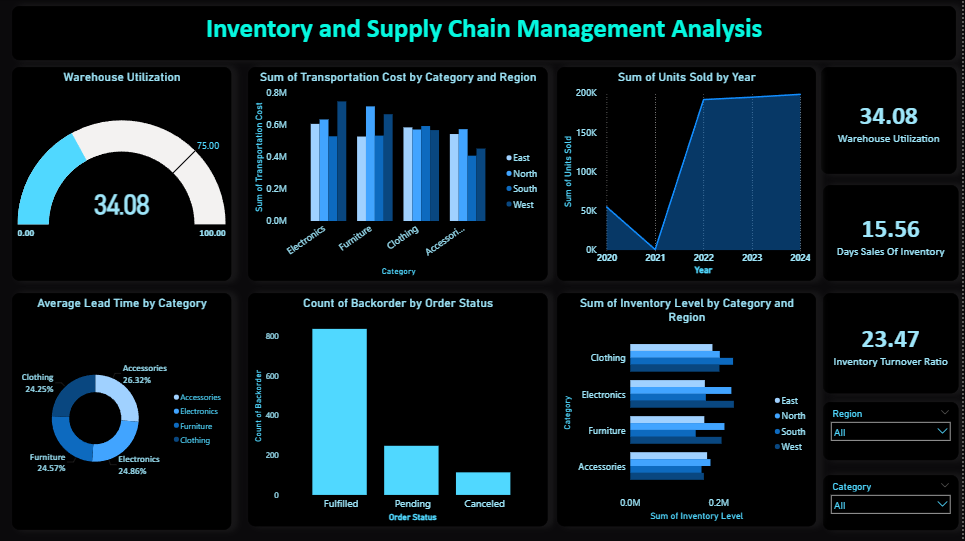

Layout of this report page (visuals, bound fields, positions):
{"tool":"powerbi","page":{"name":"Page 1","canvas":[1920,1080],"ordinal":0},"visuals":[{"type":"textbox","box":[28.5,13.2,1881.2,107.6],"z":0},{"type":"card","fields":{"Values":["Inventory and Supply Chain Management Analysis.Days Sales Of Inventory"]},"box":[1644.1,371,270,191],"z":1000},{"type":"card","fields":{"Values":["Inventory and Supply Chain Management Analysis.Warehouse Utilization"]},"box":[1639.8,136.1,270,212.9],"z":2000},{"type":"card","fields":{"Values":["Inventory and Supply Chain Management Analysis.Inventory Turnover Ratio"]},"box":[1644.1,586.1,270,199.8],"z":3000},{"type":"gauge","fields":{"Y":["Inventory and Supply Chain Management Analysis.Warehouse Utilization"]},"box":[28.5,136.1,436.8,425.9],"z":4000},{"type":"clusteredColumnChart","fields":{"Category":["Inventory and Supply Chain Management Analysis.Category"],"Y":["Sum(Inventory and Supply Chain Management Analysis.Transportation Cost)"],"Series":["Inventory and Supply Chain Management Analysis.Region"]},"box":[498.3,136.1,597.1,425.9],"z":5000},{"type":"slicer","fields":{"Values":["Inventory and Supply Chain Management Analysis.Region"]},"box":[1644.1,803.4,270,116.3],"z":6000},{"type":"slicer","fields":{"Values":["Inventory and Supply Chain Management Analysis.Category"]},"box":[1644.1,948.3,270,109.8],"z":7000},{"type":"areaChart","fields":{"Y":["Sum(Inventory and Supply Chain Management Analysis.Units Sold)"],"Category":["Inventory and Supply Chain Management Analysis.Date.Variation.Date Hierarchy.Year"]},"box":[1112.9,136.1,515.9,425.9],"z":8000},{"type":"donutChart","title":"Average  Lead Time  by Category","fields":{"Category":["Inventory and Supply Chain Management Analysis.Category"],"Y":["Avg(Inventory and Supply Chain Management Analysis.Lead Time (Days))"]},"box":[28.5,586.1,436.8,472],"z":9000},{"type":"columnChart","fields":{"Y":["CountNonNull(Inventory and Supply Chain Management Analysis.Backorder)"],"Category":["Inventory and Supply Chain Management Analysis.Order Status"]},"box":[498.3,586.1,597.1,465.4],"z":10000},{"type":"clusteredBarChart","fields":{"Category":["Inventory and Supply Chain Management Analysis.Category"],"Y":["Sum(Inventory and Supply Chain Management Analysis.Inventory Level)"],"Series":["Inventory and Supply Chain Management Analysis.Region"]},"box":[1112.9,586.1,515.9,465.4],"z":11000}]}

Visuals, with their boxes in screenshot pixels (x1, y1, x2, y2), scaled from the page's 1920x1080 canvas onto the 965x541 screenshot:
textbox: crop(14, 7, 960, 61)
card - Inventory and Supply Chain Management Analysis.Days Sales Of Inventory: crop(826, 186, 962, 282)
card - Inventory and Supply Chain Management Analysis.Warehouse Utilization: crop(824, 68, 960, 175)
card - Inventory and Supply Chain Management Analysis.Inventory Turnover Ratio: crop(826, 294, 962, 394)
gauge - Inventory and Supply Chain Management Analysis.Warehouse Utilization: crop(14, 68, 234, 282)
clusteredColumnChart - Inventory and Supply Chain Management Analysis.Category x Sum(Inventory and Supply Chain Management Analysis.Transportation Cost): crop(250, 68, 551, 282)
slicer - Inventory and Supply Chain Management Analysis.Region: crop(826, 402, 962, 461)
slicer - Inventory and Supply Chain Management Analysis.Category: crop(826, 475, 962, 530)
areaChart - Sum(Inventory and Supply Chain Management Analysis.Units Sold) x Inventory and Supply Chain Management Analysis.Date.Variation.Date Hierarchy.Year: crop(559, 68, 819, 282)
"Average  Lead Time  by Category" donutChart: crop(14, 294, 234, 530)
columnChart - CountNonNull(Inventory and Supply Chain Management Analysis.Backorder) x Inventory and Supply Chain Management Analysis.Order Status: crop(250, 294, 551, 527)
clusteredBarChart - Inventory and Supply Chain Management Analysis.Category x Sum(Inventory and Supply Chain Management Analysis.Inventory Level): crop(559, 294, 819, 527)
